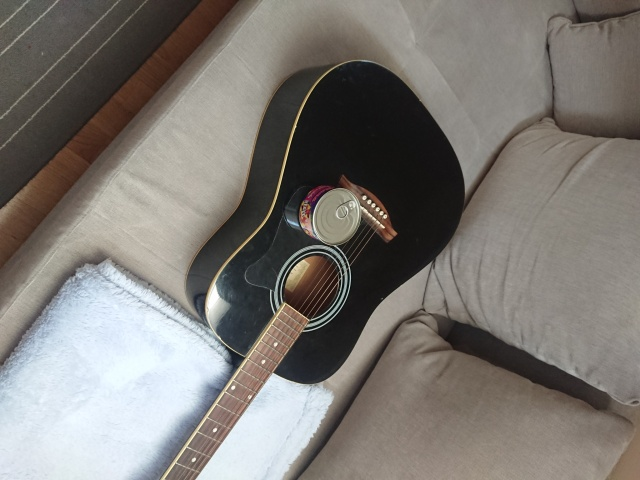Giana Tuna Salad Mexico 185g: (295, 181, 365, 249)
